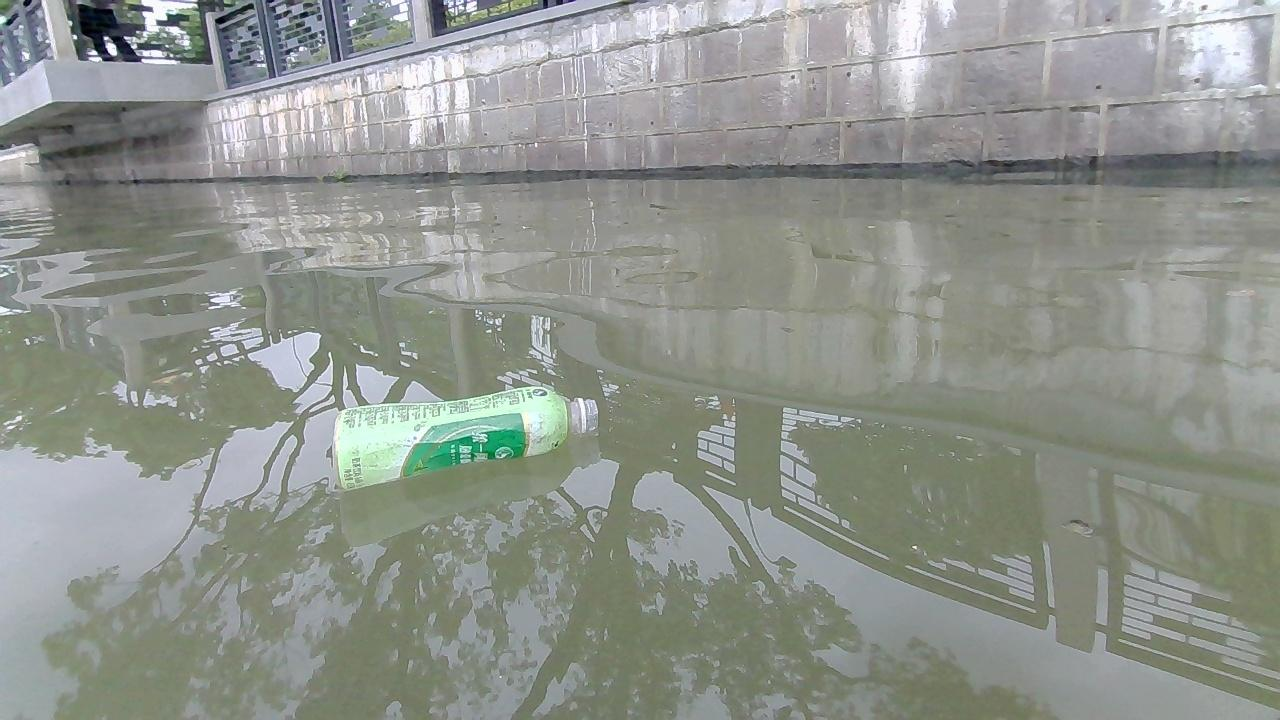bottle: (332, 381, 594, 493)
